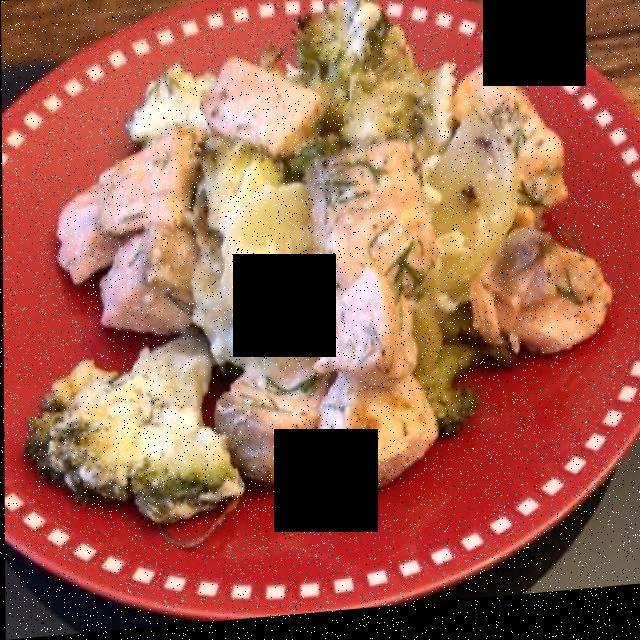broccoli: (31, 9, 469, 526), (31, 0, 422, 519)
potatoes: (193, 151, 328, 392), (199, 178, 321, 403)
salmon: (68, 59, 618, 496), (60, 66, 604, 492)
